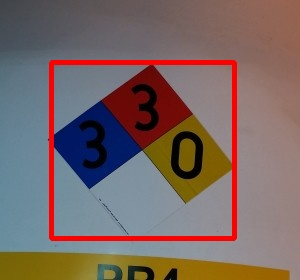nfpa: (51, 62, 234, 238)
